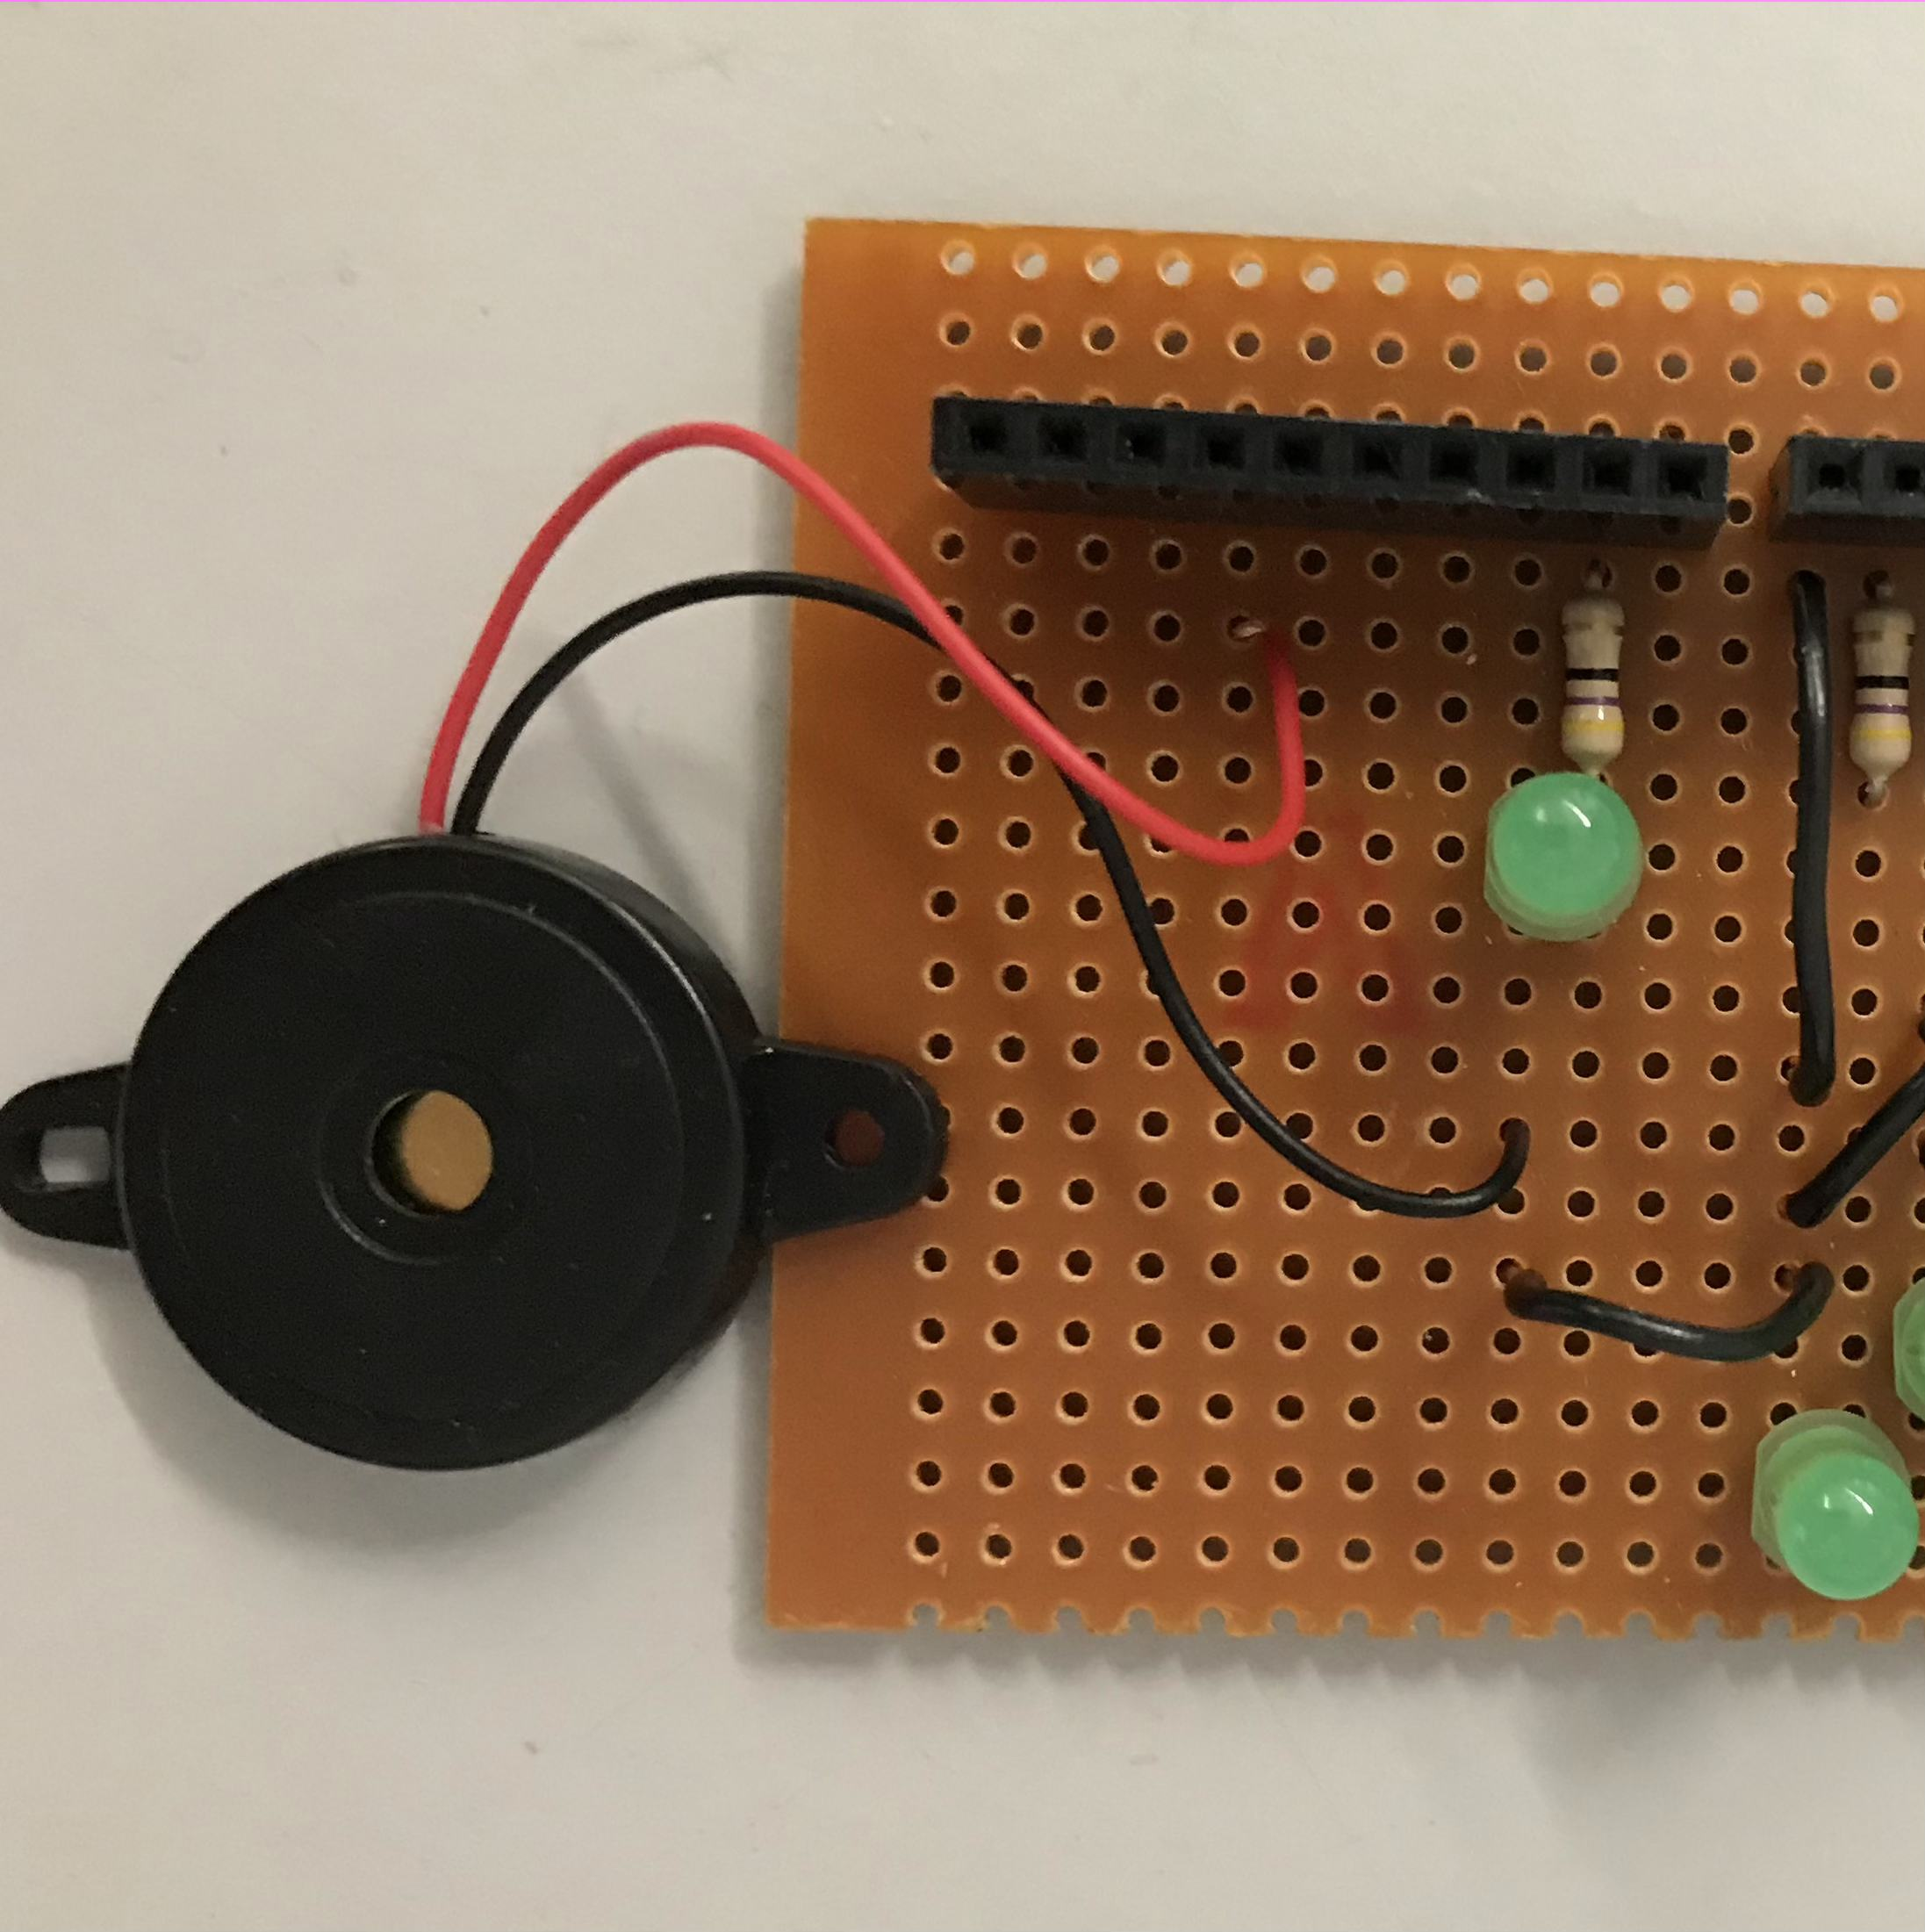LED: (1743, 1401, 1925, 1613), (1468, 777, 1648, 941)
Resistor: (1550, 583, 1638, 770), (1840, 592, 1916, 788)
